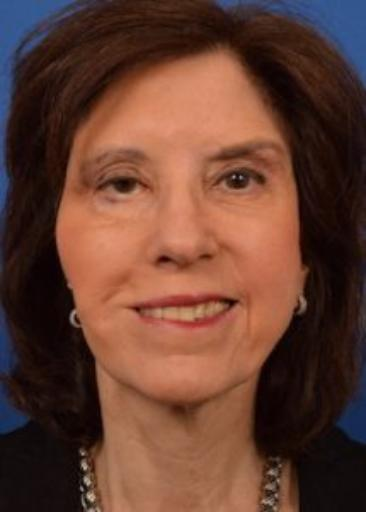left_eye: (210, 167, 267, 196)
left_lip_corner: (228, 293, 246, 313)
right_eye: (96, 175, 152, 202)
right_lip_corner: (120, 301, 139, 319)
